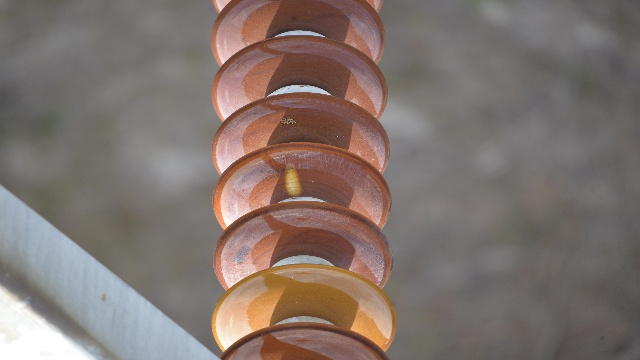insulator_unspecified: (210, 0, 401, 359)
pollution_flashover_local: (280, 159, 308, 202)
